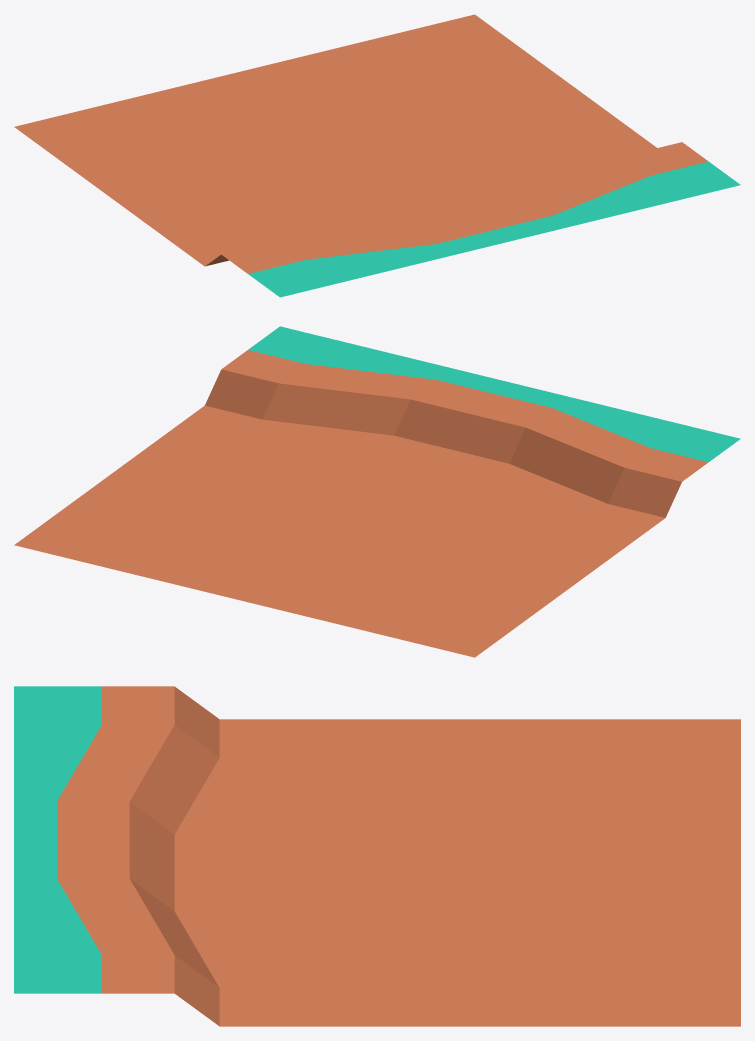
File: ground_pathSide.dae
The picture shows the model from 3 angles, top to bottom: view 1: azimuth 30°, elevation 25°; view 2: azimuth 150°, elevation 25°; view 3: azimuth 270°, elevation 25°; orthographic projection. The views are drawn at different scales.
Parts seen in each view (by area): view 1: ground_pathSide; view 2: ground_pathSide; view 3: ground_pathSide.
Part boxes in pixels (<box>): ground_pathSide: <box>14,14,740,297</box>; ground_pathSide: <box>14,326,740,657</box>; ground_pathSide: <box>14,686,740,1026</box>.
Size of the model in its own units: 1 by 0.05 by 1.
